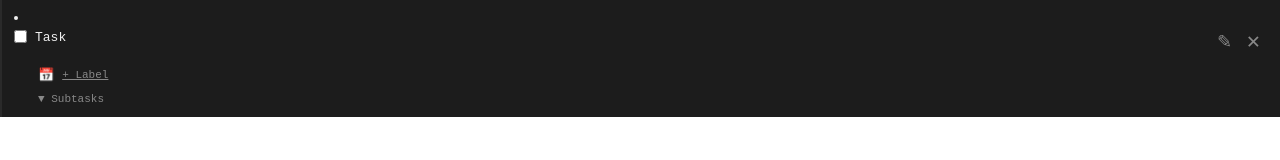
it: TaskRow — inline edit mode (Story 2.4) › Retry re-opens edit mode with the failed title pre-populated (AC4)
This screenshot has width=1280, height=160.
Click the button named "edit task title" at (1224, 42), box [1210,28,1239,58]
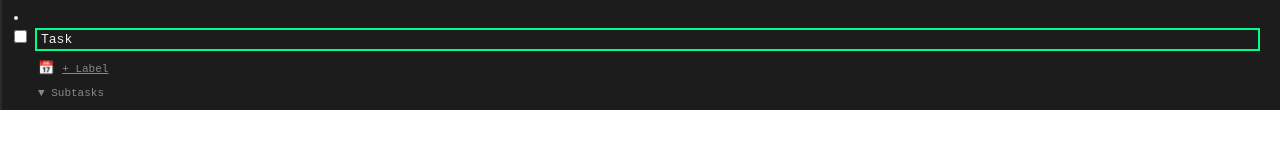
Replace the text in the field named "edit task title: task" with "Attempted title" at (648, 39), box [35,28,1260,51]
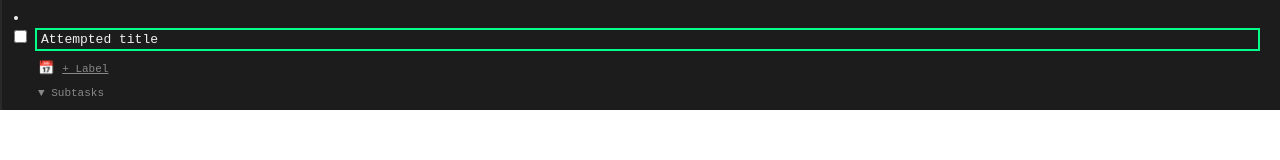
Press Enter
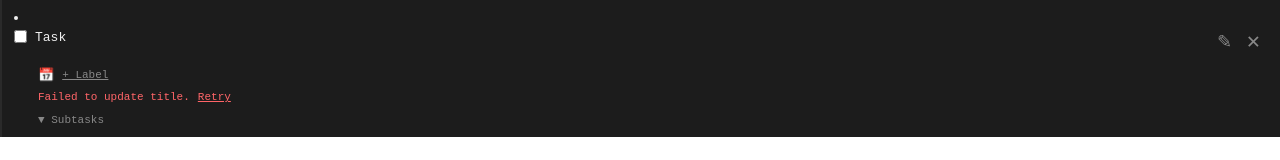
Check: the button with aria-label "retry saving task" is shown
Click the button with aria-label "retry saving task" at (214, 97), box [198,89,231,106]
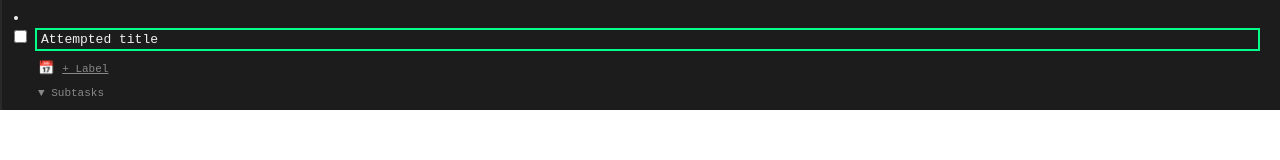
Check: the field holds "Attempted title", box [35,28,1260,51]
